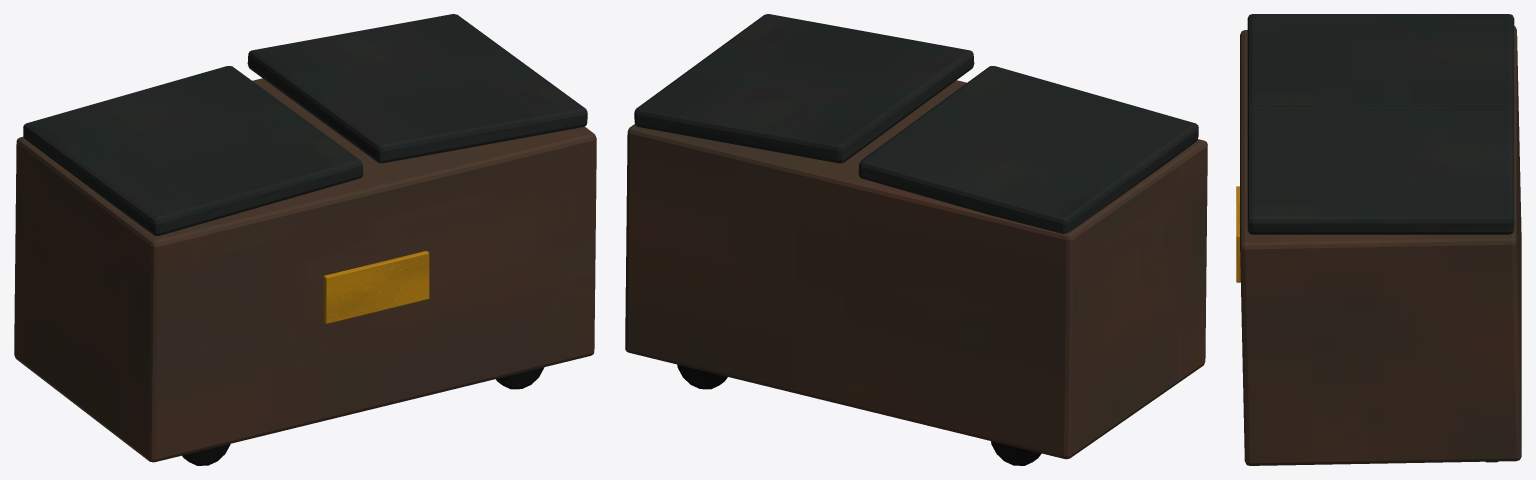
The model's file is street-dumpster-v1.glb.
3 views of the same model, side by side, from view 1: azimuth 30°, elevation 25°; view 2: azimuth 150°, elevation 25°; view 3: azimuth 270°, elevation 25° (orthographic).
Visible parts, largest first — view 1: dumpster_body, dumpster_lid_left, dumpster_lid_right, dumpster_warning, dumpster_wheel_1_0; view 2: dumpster_body, dumpster_lid_left, dumpster_lid_right, dumpster_wheel_1_1, dumpster_wheel_0_1; view 3: dumpster_body, dumpster_lid_right, dumpster_lid_left, dumpster_warning.
Part boxes in pixels (x1,y1,x2,y2): dumpster_body: (14,78,596,462); dumpster_lid_left: (23,66,363,235); dumpster_lid_right: (247,14,587,163); dumpster_warning: (323,251,429,323); dumpster_wheel_1_0: (495,367,544,389); dumpster_body: (625,80,1207,459); dumpster_lid_left: (858,66,1198,233); dumpster_lid_right: (634,14,974,163); dumpster_wheel_1_1: (677,364,727,389); dumpster_wheel_0_1: (991,441,1041,465); dumpster_body: (1240,26,1521,465); dumpster_lid_right: (1247,105,1514,234); dumpster_lid_left: (1247,14,1514,109); dumpster_warning: (1236,186,1240,282).
Size of the model in its own units: 2.5 by 1.52 by 1.39.
4 materials, 4 textured.
